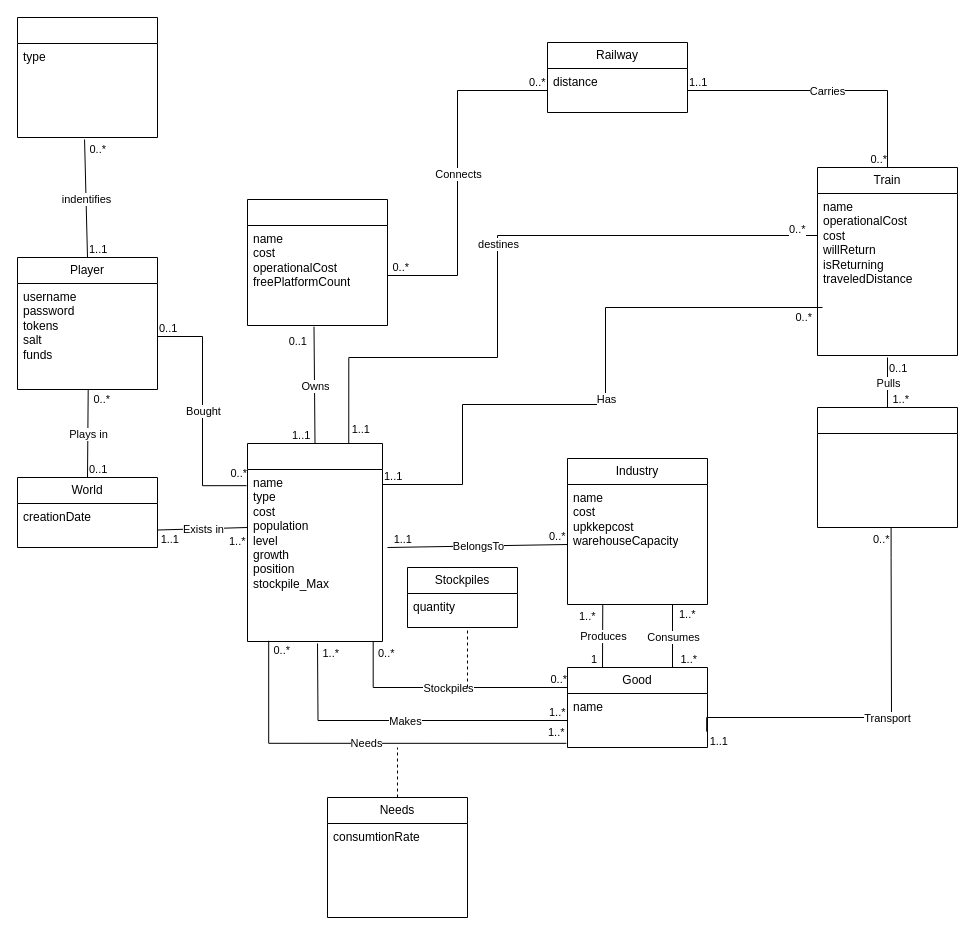
The diagram is 975 pixels wide and 938 high, and some of its shapes have lost their labels. Each missing label, with the box of its shape:
Asset: (246, 442, 382, 642)
Station: (246, 198, 388, 326)
Token: (16, 16, 158, 138)
Wagon: (816, 406, 958, 528)
